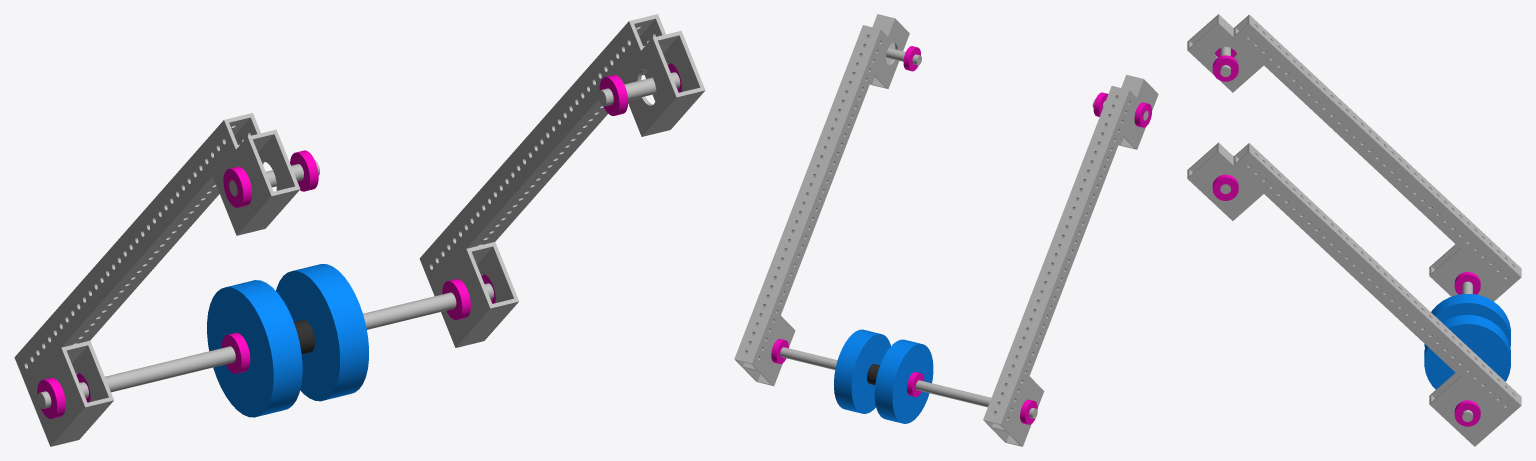
3 views of the same model, side by side, from view 1: azimuth 30°, elevation 25°; view 2: azimuth 150°, elevation 25°; view 3: azimuth 270°, elevation 25° (orthographic). The views are drawn at different scales.
Parts seen in each view (by area): view 1: Design2_AlgaeWheelHolder:1, Design2_AlgaeIntake24InchBar:1, Design2_AlgaeIntake24InchBar:2, Algae_Pillars:3, Algae_Pillars:4, Algae_Pillars:1, Algae_Pillars:2, ShaftCollar:5, Design2_2FootBar:2, ShaftCollar:10, ShaftCollar:3, ShaftCollar:9 (+2 smaller); view 2: Design2_AlgaeIntake24InchBar:2, Design2_AlgaeIntake24InchBar:1, Design2_AlgaeWheelHolder:1, Algae_Pillars:3, Algae_Pillars:4, Algae_Pillars:2, Algae_Pillars:1; view 3: Design2_AlgaeIntake24InchBar:2, Design2_AlgaeIntake24InchBar:1, Design2_AlgaeWheelHolder:1, Algae_Pillars:3, Algae_Pillars:4, Algae_Pillars:2, Algae_Pillars:1, ShaftCollar:8, ShaftCollar:2, ShaftCollar:6, ShaftCollar:4.
Boxes of the visible parts, x1,y1,x2,y2 form: Design2_AlgaeWheelHolder:1: [37, 264, 493, 417]; Design2_AlgaeIntake24InchBar:1: [14, 113, 260, 386]; Design2_AlgaeIntake24InchBar:2: [419, 14, 665, 287]; Algae_Pillars:3: [618, 30, 705, 136]; Algae_Pillars:4: [212, 129, 300, 235]; Algae_Pillars:1: [26, 340, 113, 446]; Algae_Pillars:2: [431, 242, 518, 347]; ShaftCollar:5: [223, 166, 251, 207]; Design2_2FootBar:2: [598, 72, 680, 106]; ShaftCollar:10: [221, 332, 250, 373]; ShaftCollar:3: [37, 377, 65, 418]; ShaftCollar:9: [599, 75, 628, 115]; Design2_AlgaeIntake24InchBar:2: [734, 25, 887, 370]; Design2_AlgaeIntake24InchBar:1: [983, 86, 1136, 431]; Design2_AlgaeWheelHolder:1: [780, 329, 1037, 423]; Algae_Pillars:3: [870, 14, 909, 88]; Algae_Pillars:4: [1118, 75, 1158, 149]; Algae_Pillars:2: [742, 316, 795, 385]; Algae_Pillars:1: [991, 376, 1044, 446]; Design2_AlgaeIntake24InchBar:2: [1233, 143, 1521, 418]; Design2_AlgaeIntake24InchBar:1: [1233, 14, 1521, 290]; Design2_AlgaeWheelHolder:1: [1424, 281, 1510, 421]; Algae_Pillars:3: [1187, 142, 1263, 220]; Algae_Pillars:4: [1187, 14, 1263, 92]; Algae_Pillars:2: [1429, 373, 1505, 446]; Algae_Pillars:1: [1429, 244, 1505, 301]; ShaftCollar:8: [1212, 174, 1238, 200]; ShaftCollar:2: [1454, 400, 1480, 426]; ShaftCollar:6: [1212, 55, 1238, 81]; ShaftCollar:4: [1454, 272, 1480, 294].
Bounding box in the file's own units: 0.4077 × 0.3871 × 0.391.
